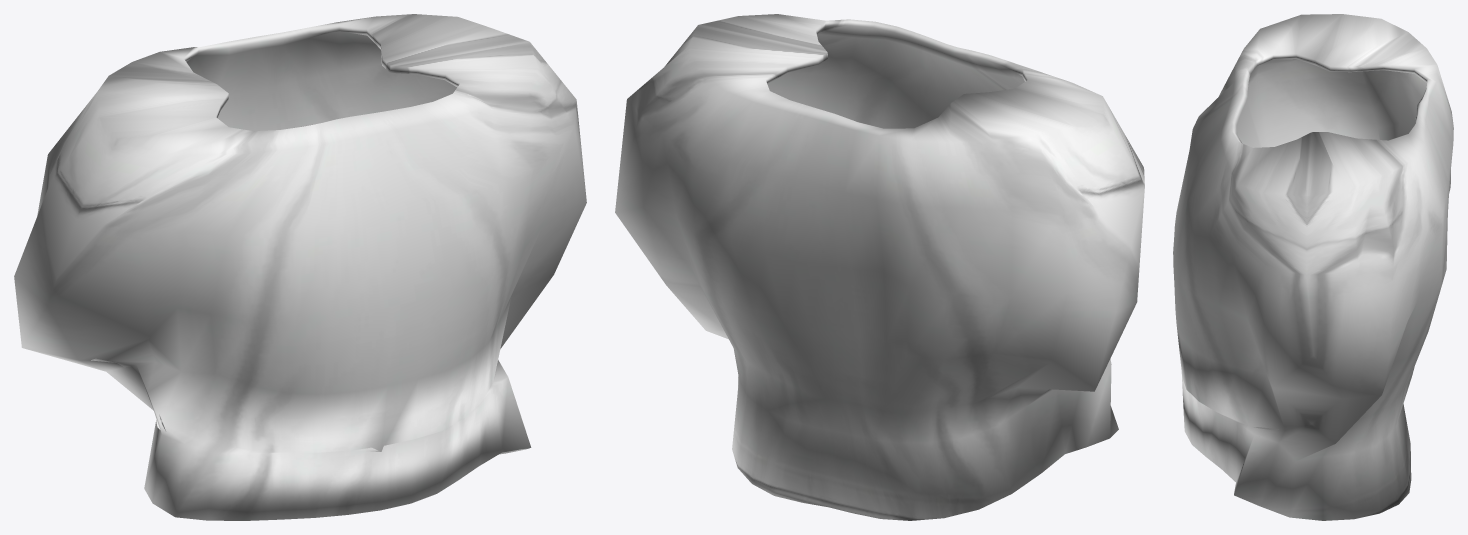
The picture shows the model from 3 angles, left to right: view 1: azimuth 30°, elevation 25°; view 2: azimuth 150°, elevation 25°; view 3: azimuth 270°, elevation 25°; orthographic projection. The views are drawn at different scales.
Parts seen in each view (by area): view 1: garment; view 2: garment; view 3: garment.
Boxes of the visible parts, x1=… form: garment: x1=14, y1=14, x2=586, y2=520; garment: x1=615, y1=14, x2=1144, y2=520; garment: x1=1173, y1=14, x2=1453, y2=520.
Size of the model in its own units: 0.577 by 0.4418 by 0.3052.
Materials: 1 (1 with a texture image).
